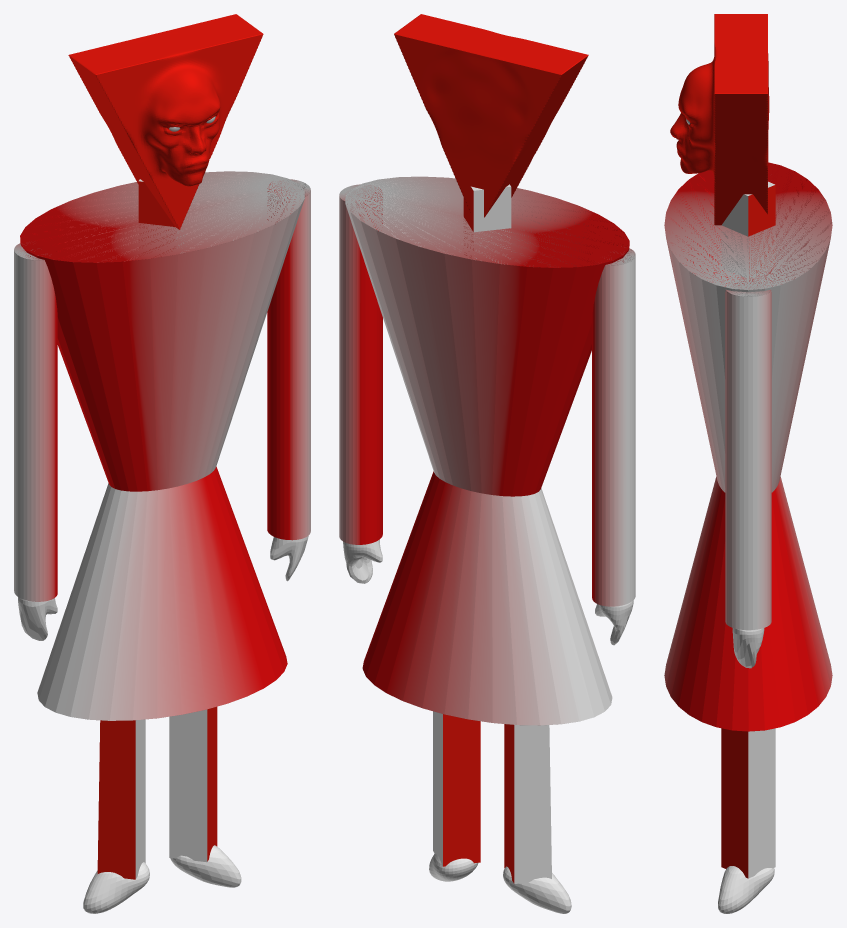
The model's file is RedFace.fbx.
The picture shows the model from 3 angles, left to right: view 1: azimuth 30°, elevation 25°; view 2: azimuth 150°, elevation 25°; view 3: azimuth 270°, elevation 25°; orthographic projection. The views are drawn at different scales.
Parts seen in each view (by area): view 1: Cylinder, Cylinder.001, Cylinder.002, Face1, Cube.004, Cube.003, Sphere.004, Sphere.003, Sphere.002, Cube.002; view 2: Cylinder, Cylinder.001, Cylinder.002, Face1, Cube.004, Cube.003, Sphere.004, Cube.002, Sphere.003, Sphere.002; view 3: Cylinder, Cylinder.001, Cylinder.002, Face1, Cube.003, Cube.002, Sphere.002, Sphere.004.
Part boxes in pixels (x1=…): Cylinder: x1=20, y1=171, x2=304, y2=491; Cylinder.001: x1=37, y1=466, x2=287, y2=720; Cylinder.002: x1=14, y1=179, x2=310, y2=601; Face1: x1=68, y1=14, x2=263, y2=229; Cube.004: x1=97, y1=719, x2=145, y2=879; Cube.003: x1=169, y1=706, x2=217, y2=862; Sphere.004: x1=18, y1=536, x2=308, y2=640; Sphere.003: x1=83, y1=862, x2=149, y2=913; Sphere.002: x1=170, y1=845, x2=241, y2=887; Cube.002: x1=138, y1=179, x2=186, y2=256; Cylinder: x1=345, y1=176, x2=629, y2=496; Cylinder.001: x1=362, y1=471, x2=612, y2=725; Cylinder.002: x1=339, y1=184, x2=635, y2=606; Face1: x1=394, y1=14, x2=588, y2=217; Cube.004: x1=504, y1=724, x2=551, y2=883; Cube.003: x1=433, y1=711, x2=480, y2=866; Sphere.004: x1=343, y1=540, x2=633, y2=645; Cube.002: x1=463, y1=184, x2=511, y2=264; Sphere.003: x1=503, y1=866, x2=571, y2=913; Sphere.002: x1=429, y1=853, x2=478, y2=881; Cylinder: x1=664, y1=162, x2=832, y2=492; Cylinder.001: x1=664, y1=476, x2=832, y2=731; Cylinder.002: x1=725, y1=279, x2=771, y2=630; Face1: x1=670, y1=14, x2=769, y2=225; Cube.003: x1=721, y1=728, x2=775, y2=878; Cube.002: x1=721, y1=181, x2=775, y2=278; Sphere.002: x1=718, y1=866, x2=774, y2=913; Sphere.004: x1=732, y1=628, x2=764, y2=668.
Bounding box in the file's own units: 186 × 522 × 95.58.
